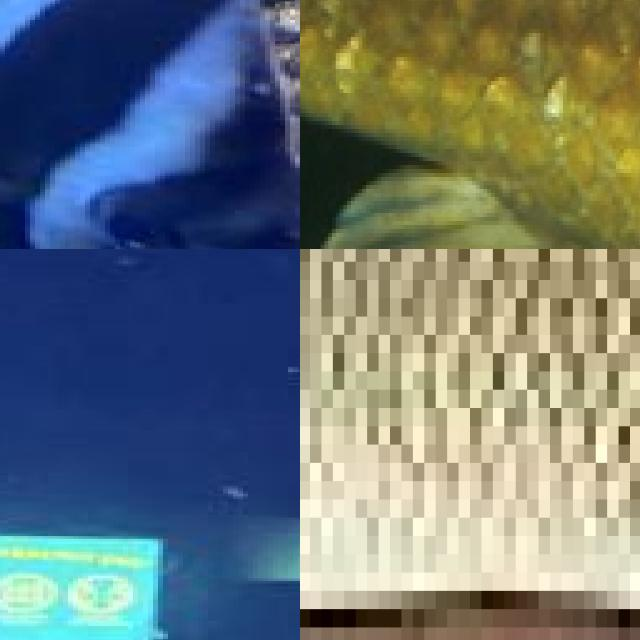fish: (300, 249, 640, 640), (300, 0, 640, 249), (0, 0, 300, 249)
